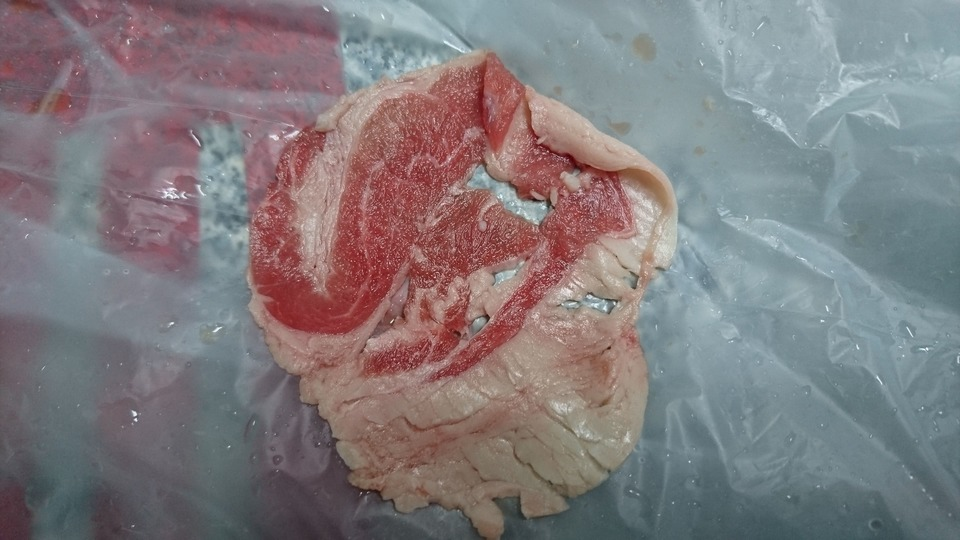restructured meat: (249, 48, 682, 540)
